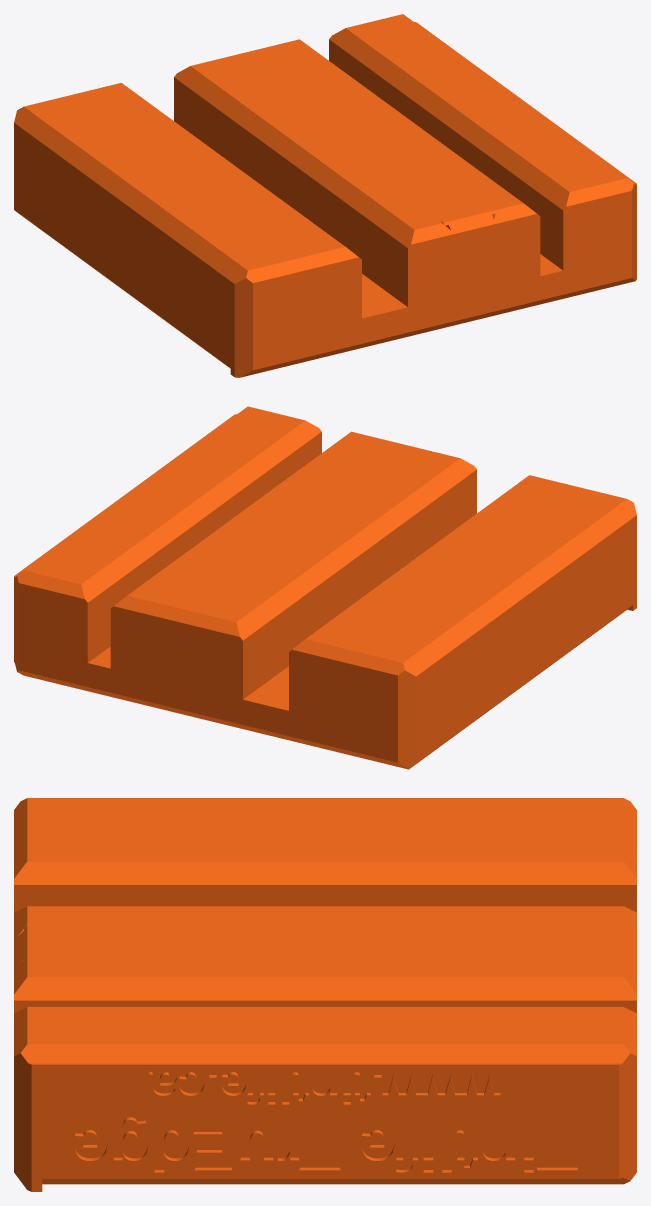
The model's file is truedge-mini-v1.7.glb.
3 renders of one model, top to bottom at view 1: azimuth 30°, elevation 25°; view 2: azimuth 150°, elevation 25°; view 3: azimuth 270°, elevation 25°, orthographic. The views are drawn at different scales.
Parts seen in each view (by area): view 1: mini_display.stl; view 2: mini_display.stl; view 3: mini_display.stl.
Boxes of the visible parts, x1,y1,x2,y2 form: mini_display.stl: (14,14,636,377); mini_display.stl: (14,406,636,769); mini_display.stl: (14,798,636,1191).
Size of the model in its own units: 0.07 by 0.0175 by 0.0705.
